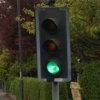traffic lights: (36, 7, 72, 80)
